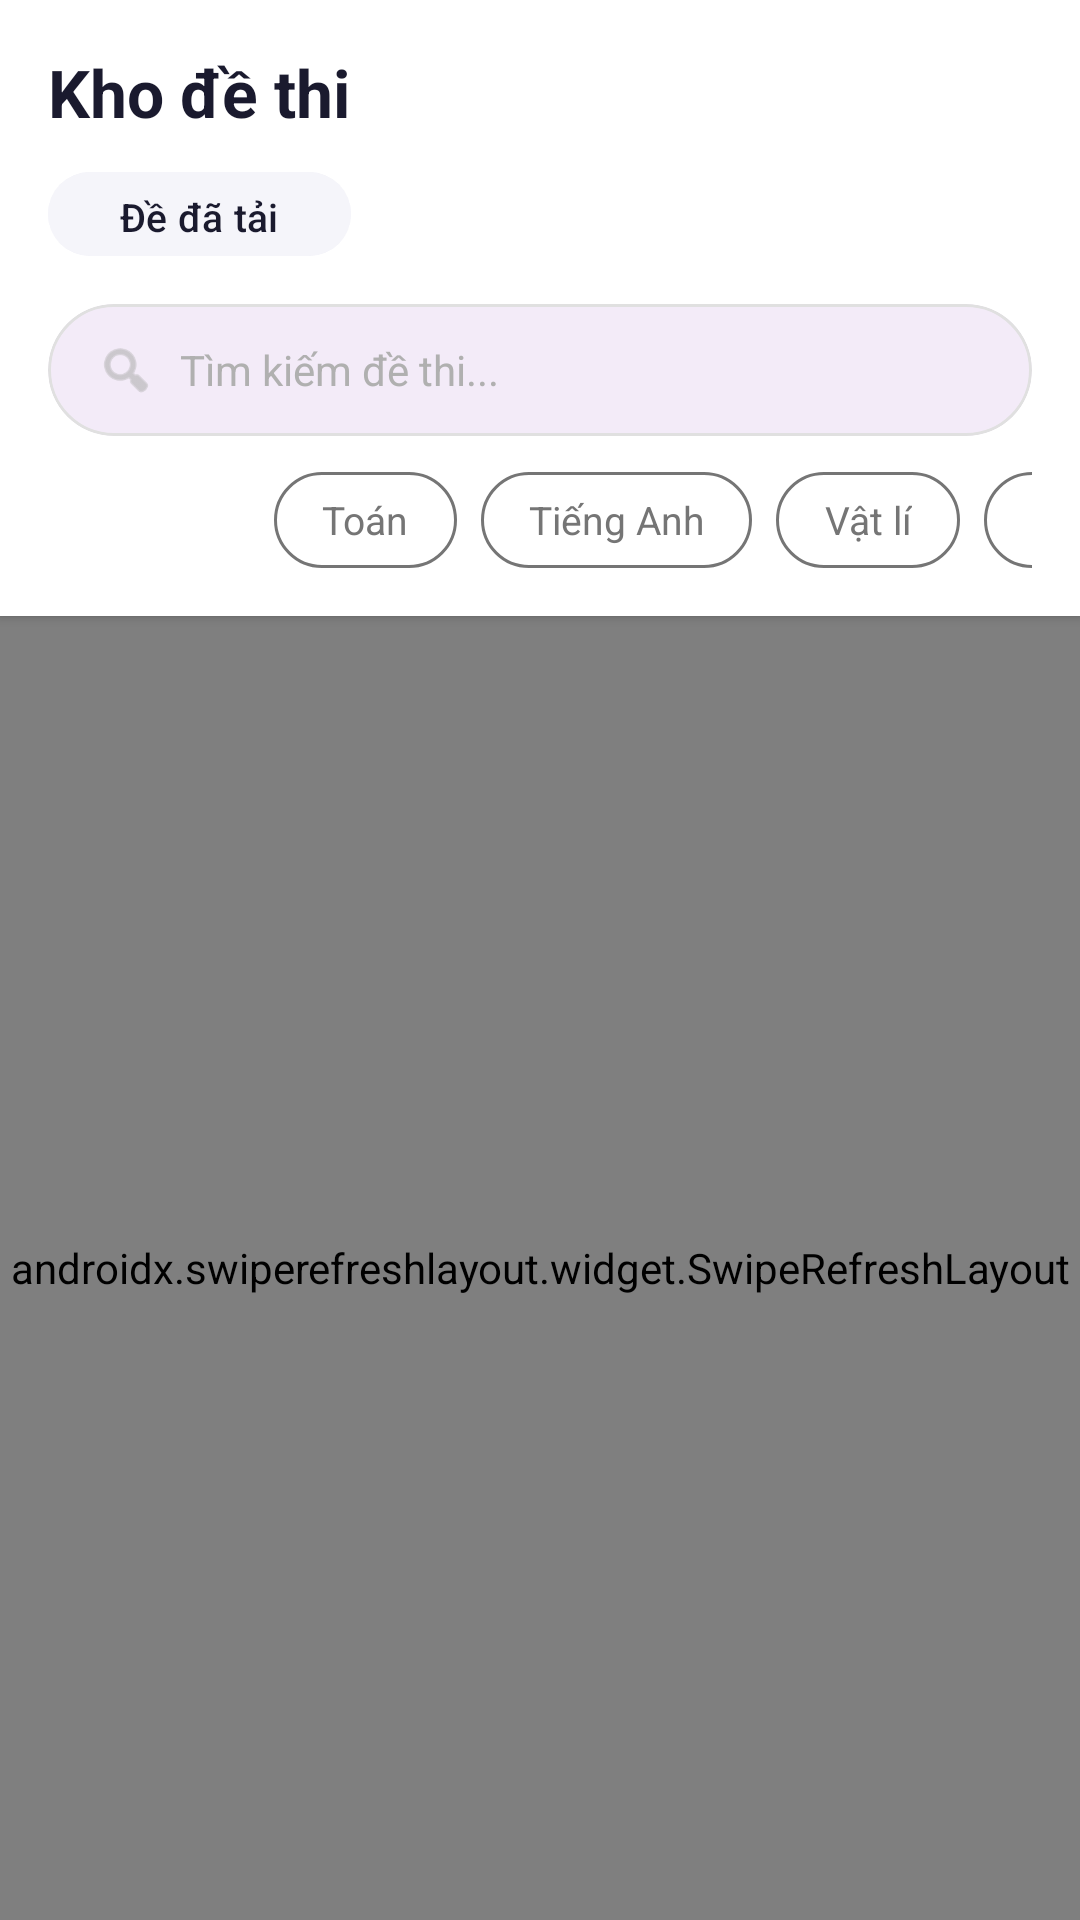

Screen size 1080 × 1920. Icon name, then its box in pixels as {"left": x1, "top": y1, "right": x2, "bottom": y2}:
Search: {"left": 104, "top": 348, "right": 148, "bottom": 392}
